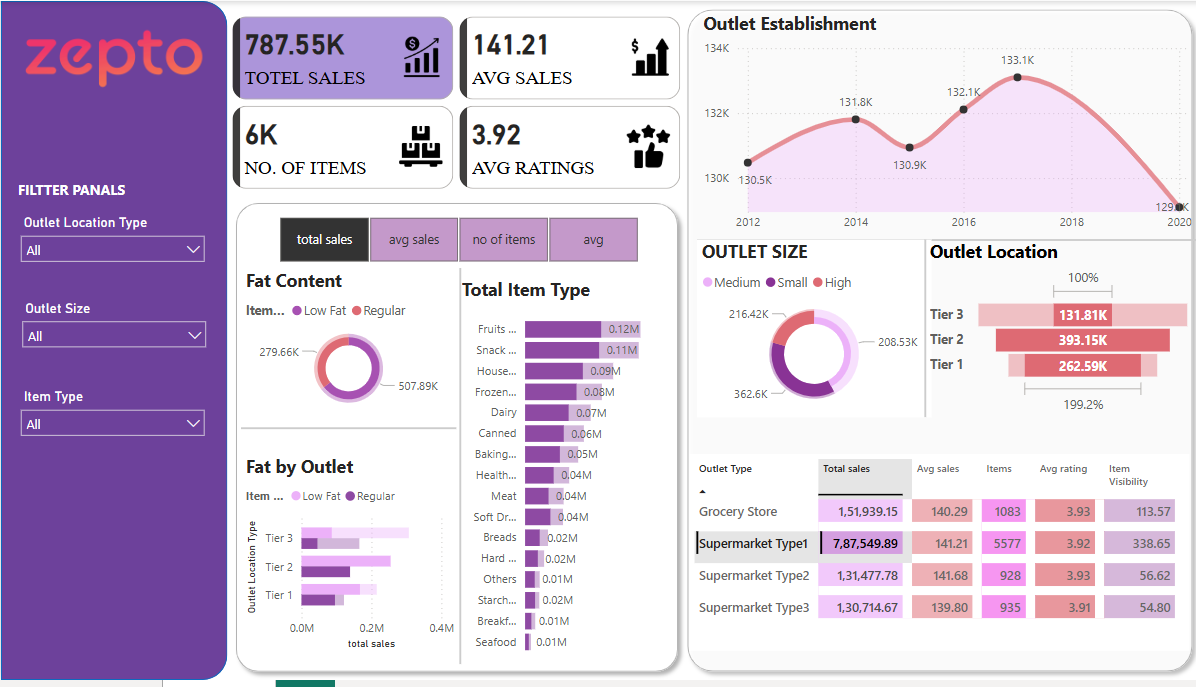

This screenshot's page, from the dashboard's own definition file:
{"tool":"powerbi","page":{"name":"Page 1","canvas":[1280,720],"ordinal":0},"visuals":[{"type":"shape","box":[0,0,240,720],"z":0},{"type":"image","box":[0,0,240,120.9],"z":1000},{"type":"cardVisual","fields":{"Data":["Table1.total sales","Table1.avg sales","Table1.no of items","Table1.avg"]},"box":[240,11.7,486.7,193.3],"z":2000},{"type":"shape","box":[240,205,486.7,515],"z":3000},{"type":"donutChart","title":"Fat Content","fields":{"Y":["Table1.total sales"],"Category":["Table1.Item Fat Content"]},"box":[255,283.3,228.3,158.3],"z":4000},{"type":"slicer","fields":{"Values":["Parameter.Parameter"]},"box":[270,223.3,428.3,60],"z":5000},{"type":"clusteredBarChart","title":"Fat  by Outlet","fields":{"Y":["Table1.total sales"],"Category":["Table1.Outlet Location Type"],"Series":["Table1.Item Fat Content"]},"box":[255,480,231.7,211.7],"z":6000},{"type":"shape","box":[255,441.7,228.3,21.7],"z":7000},{"type":"shape","box":[480,283.3,13.3,420],"z":8000},{"type":"barChart","title":"Total Item Type","fields":{"Y":["Table1.total sales"],"Category":["Table1.Item Type"]},"box":[483.3,293.3,235,410],"z":9000},{"type":"shape","box":[718.3,0,553.3,720],"z":10000},{"type":"lineChart","title":"Outlet Establishment","fields":{"Category":["Table1.Outlet Establishment Year"],"Y":["Table1.total sales"]},"box":[740,11.7,528.3,241.7],"z":11000},{"type":"shape","box":[738.3,241.7,530,23.3],"z":12000},{"type":"donutChart","title":"OUTLET SIZE","fields":{"Y":["Table1.total sales"],"Category":["Table1.Outlet Size"]},"box":[738.3,253.3,248.3,188.3],"z":13000},{"type":"funnel","title":"Outlet Location","fields":{"Y":["Table1.total sales"],"Category":["Table1.Outlet Location Type"]},"box":[980,253.3,288.3,188.3],"z":14000},{"type":"shape","box":[973.3,253.3,13.3,188.3],"z":15000},{"type":"pivotTable","fields":{"Rows":["Table1.Outlet Type"],"Values":["Table1.total sales","Table1.avg sales","Table1.no of items","Table1.AVG RATTING","Sum(Table1.Item Visibility)"]},"box":[730,480,530,208.3],"z":16000},{"type":"slicer","fields":{"Values":["Table1.Outlet Location Type"]},"box":[11.1,221.1,214.7,71.6],"z":17000},{"type":"slicer","fields":{"Values":["Table1.Outlet Size"]},"box":[12.7,311.8,214.7,71.6],"z":17002},{"type":"slicer","fields":{"Values":["Table1.Item Type"]},"box":[11.1,405.6,214.7,71.6],"z":17003},{"type":"textbox","box":[12.7,184.5,149.5,36.6],"z":17004}]}

Visuals, with their boxes in screenshot pixels (x1, y1, x2, y2), scaled from the page's 1280x720 canvas onto the 1196x687 screenshot:
shape: {"left": 0, "top": 0, "right": 224, "bottom": 686}
image: {"left": 0, "top": 0, "right": 224, "bottom": 115}
cardVisual - Table1.total sales x Table1.avg sales: {"left": 224, "top": 11, "right": 679, "bottom": 196}
shape: {"left": 224, "top": 196, "right": 679, "bottom": 686}
"Fat Content" donutChart: {"left": 238, "top": 270, "right": 452, "bottom": 421}
slicer - Parameter.Parameter: {"left": 252, "top": 213, "right": 652, "bottom": 270}
"Fat  by Outlet" clusteredBarChart: {"left": 238, "top": 458, "right": 455, "bottom": 660}
shape: {"left": 238, "top": 421, "right": 452, "bottom": 442}
shape: {"left": 448, "top": 270, "right": 461, "bottom": 671}
"Total Item Type" barChart: {"left": 452, "top": 280, "right": 671, "bottom": 671}
shape: {"left": 671, "top": 0, "right": 1188, "bottom": 686}
"Outlet Establishment" lineChart: {"left": 691, "top": 11, "right": 1185, "bottom": 242}
shape: {"left": 690, "top": 231, "right": 1185, "bottom": 253}
"OUTLET SIZE" donutChart: {"left": 690, "top": 242, "right": 922, "bottom": 421}
"Outlet Location" funnel: {"left": 916, "top": 242, "right": 1185, "bottom": 421}
shape: {"left": 909, "top": 242, "right": 922, "bottom": 421}
pivotTable - Table1.Outlet Type x Table1.total sales: {"left": 682, "top": 458, "right": 1177, "bottom": 657}
slicer - Table1.Outlet Location Type: {"left": 10, "top": 211, "right": 211, "bottom": 279}
slicer - Table1.Outlet Size: {"left": 12, "top": 298, "right": 212, "bottom": 366}
slicer - Table1.Item Type: {"left": 10, "top": 387, "right": 211, "bottom": 455}
textbox: {"left": 12, "top": 176, "right": 152, "bottom": 211}
